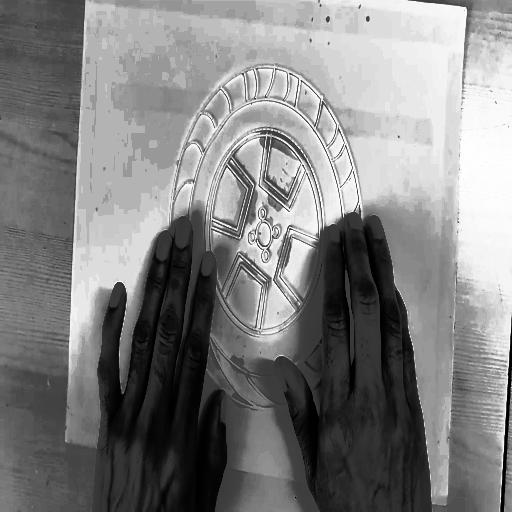bottom_left: (63, 435, 71, 450)
bottom_right: (443, 493, 453, 509)
tire: (155, 47, 381, 436)
top_right: (463, 2, 470, 15)
